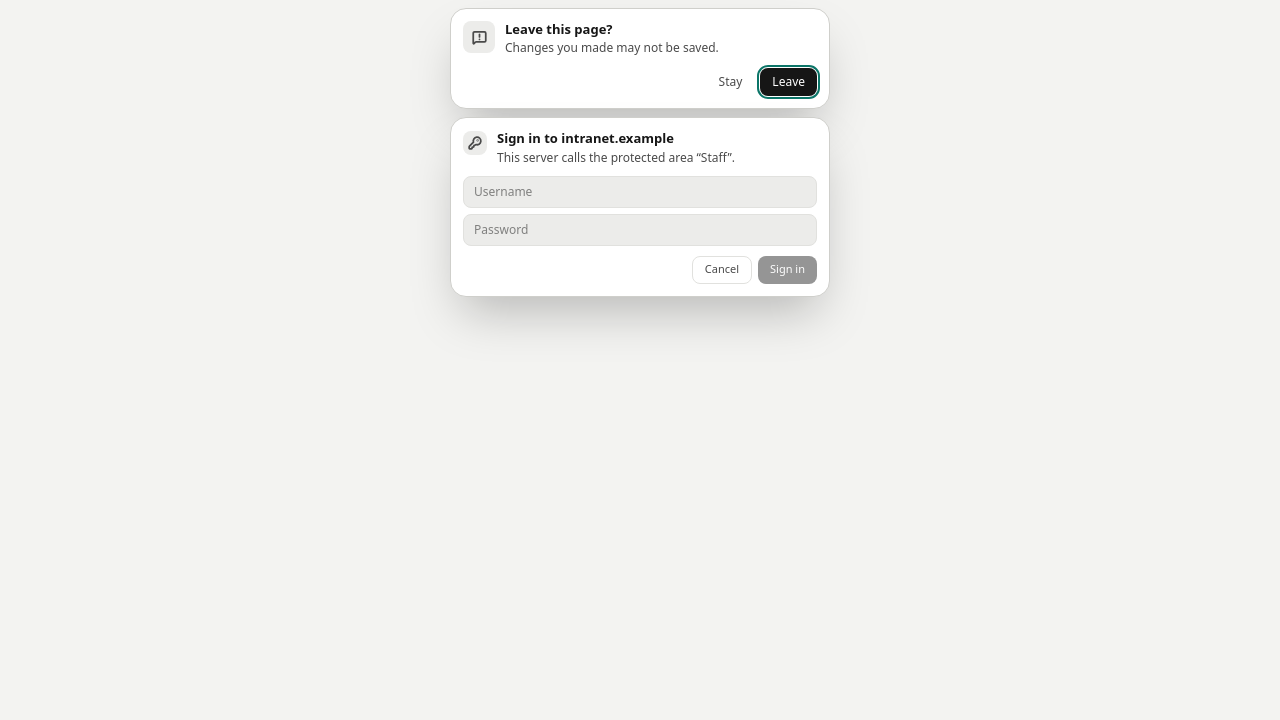
Test case: PagePrompts › stacks a page's question above a sign-in, and only the question takes the keyboard
The image size is (1280, 720).
With the page's question answered, the sign-in has the keyboard.
Click the button "Stay".
click(730, 82)  # box top-left (709, 68), bottom-right (752, 96)
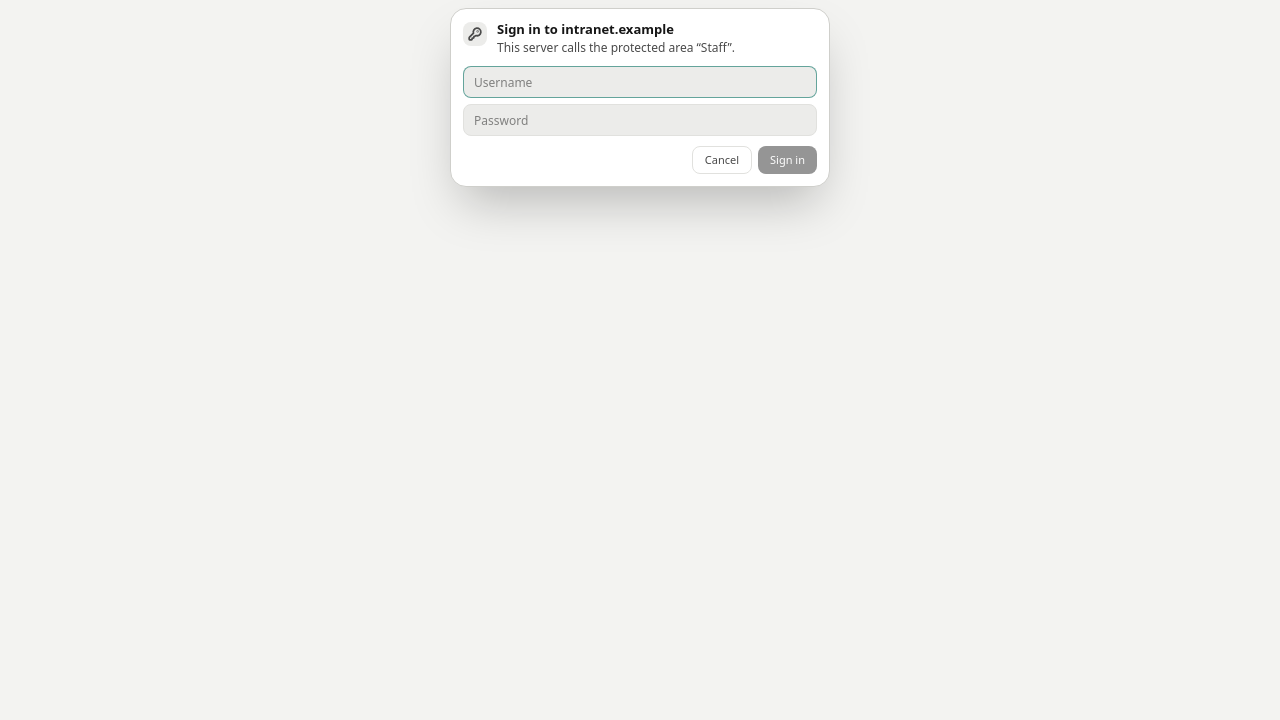
Expected: the number of dialogs is 1, top-left (450, 8), bottom-right (830, 187)
